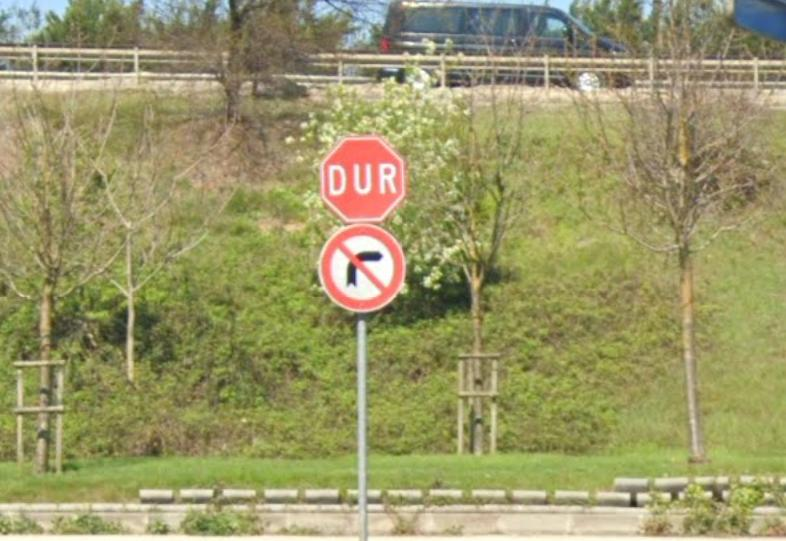rightturnsareforbidden: (319, 225, 407, 311)
stop: (320, 137, 408, 226)
